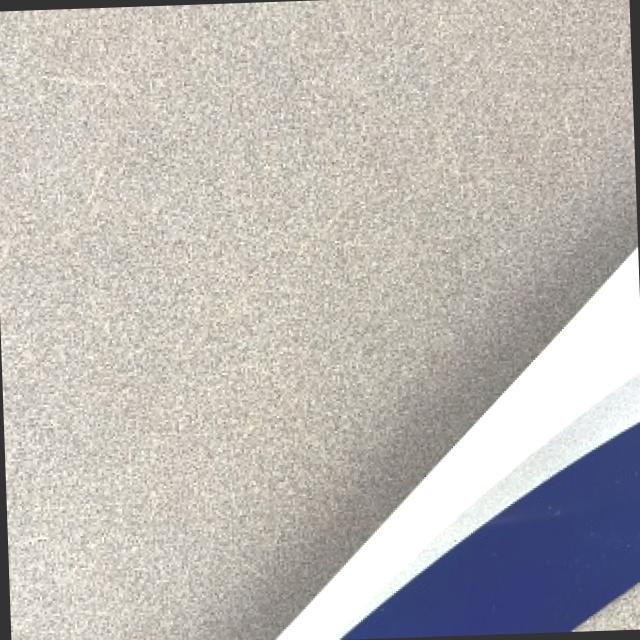healthy: (0, 0, 637, 640), (282, 251, 640, 639)
